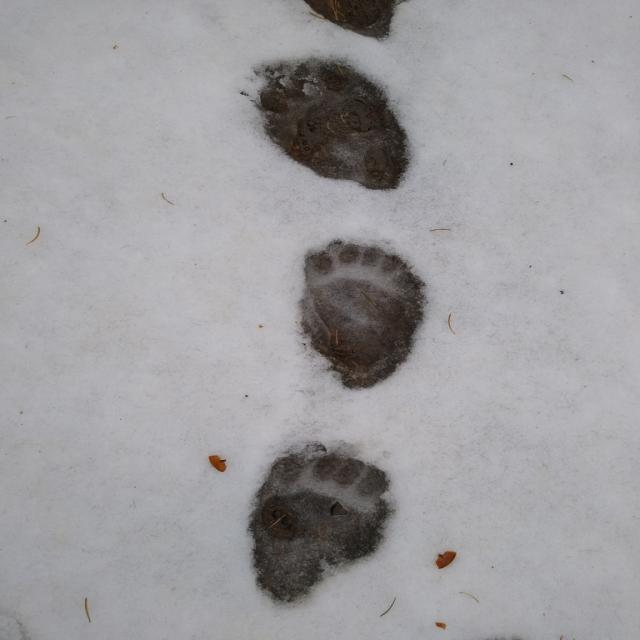bear: (253, 450, 392, 588), (305, 238, 422, 384)
